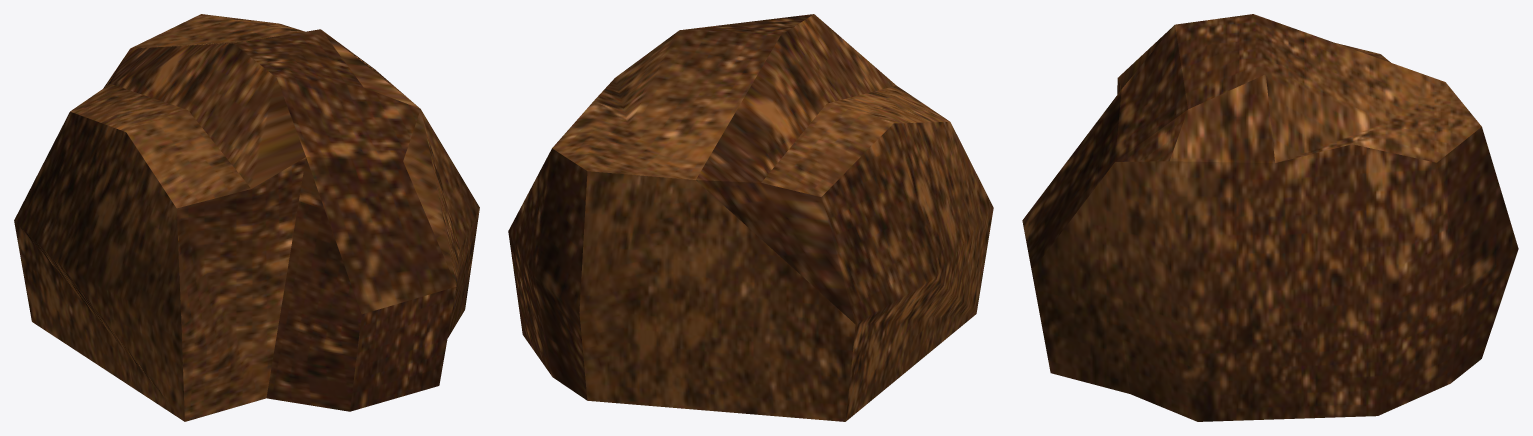
Rendered from Small_Rock.fbx.
3 renders of one model, left to right at view 1: azimuth 30°, elevation 25°; view 2: azimuth 150°, elevation 25°; view 3: azimuth 270°, elevation 25°, orthographic. The views are drawn at different scales.
Visible parts, largest first — view 1: Rock_Small; view 2: Rock_Small; view 3: Rock_Small.
Part boxes in pixels (x1=…): Rock_Small: x1=14, y1=14, x2=479, y2=421; Rock_Small: x1=508, y1=14, x2=993, y2=421; Rock_Small: x1=1022, y1=14, x2=1518, y2=421.
Bounding box in the file's own units: 0.8165 × 0.6134 × 0.904.
